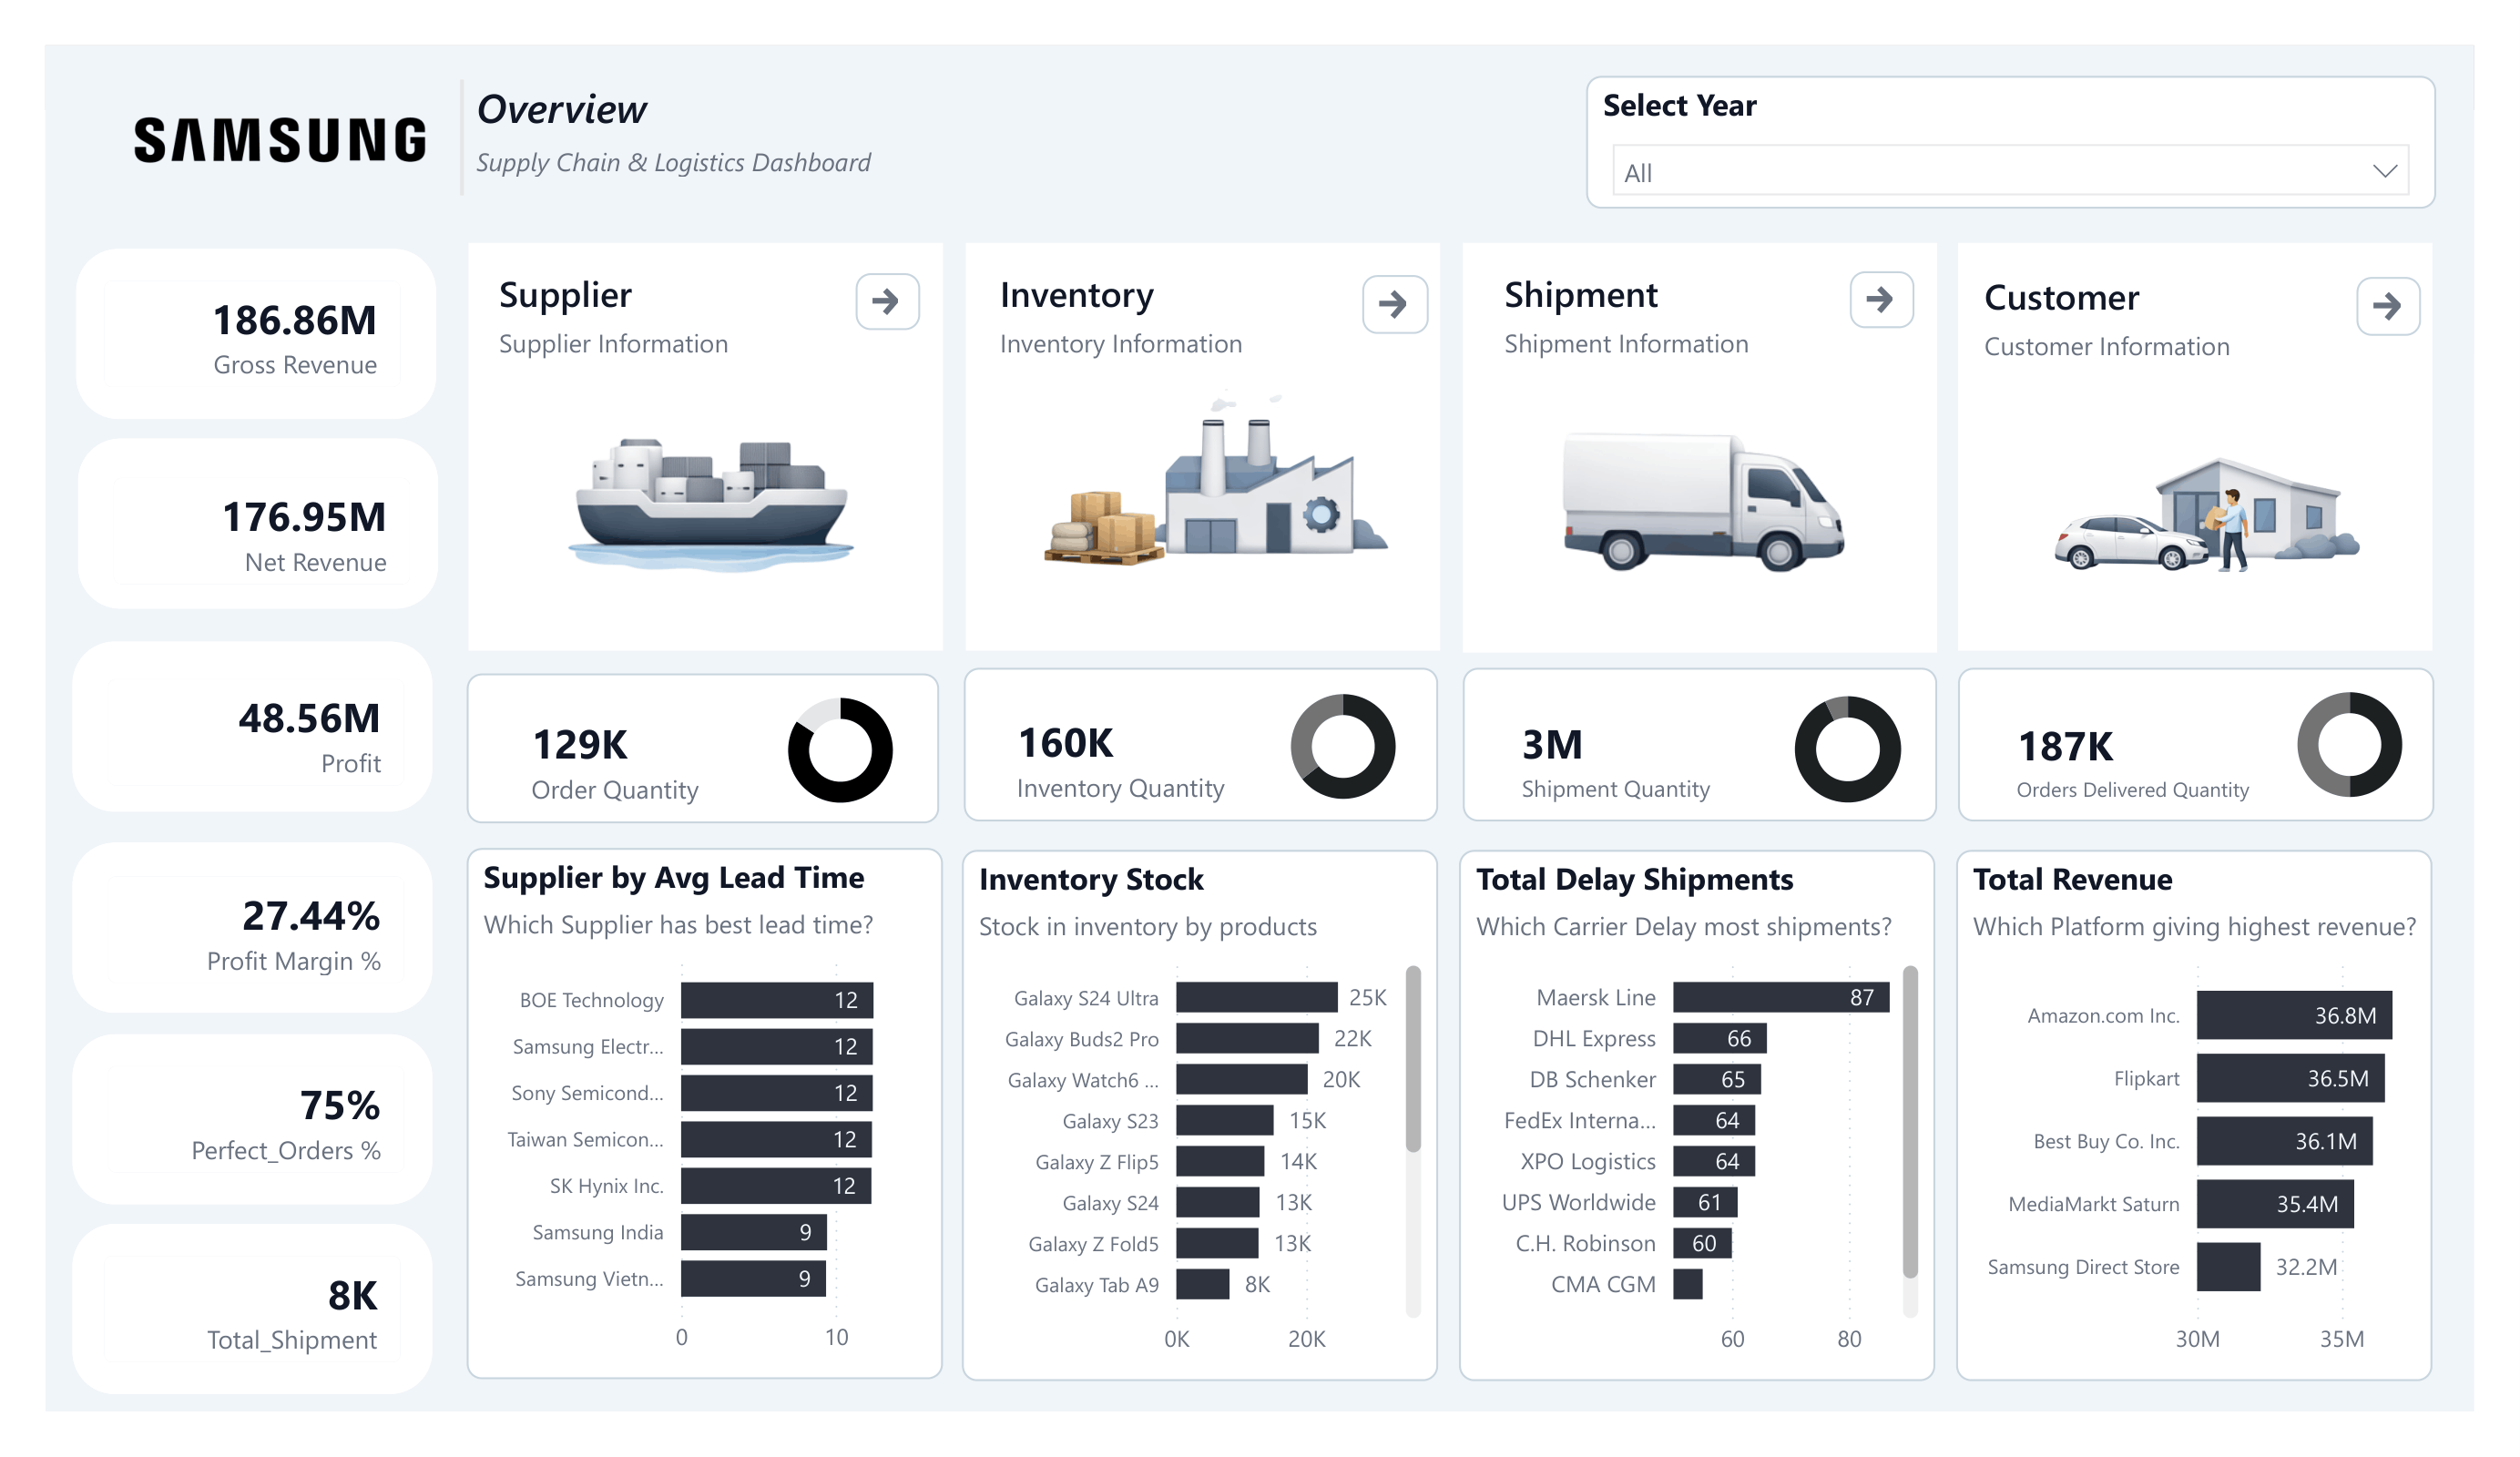

Layout of this report page (visuals, bound fields, positions):
{"tool":"powerbi","page":{"name":"overview","canvas":[1280,720],"ordinal":1},"visuals":[{"type":"shape","box":[14.3,621.4,190,90],"z":0},{"type":"shape","box":[14.3,521.4,190,90],"z":1000},{"type":"shape","box":[14.3,420,190,90],"z":2000},{"type":"shape","box":[14.3,314.3,190,90],"z":3000},{"type":"shape","box":[17.1,207.1,190,90],"z":4000},{"type":"shape","box":[15.7,107.1,190,90],"z":5000},{"type":"shape","box":[484.6,103.9,250.7,215.2],"z":6000},{"type":"shape","box":[747,103.8,249.7,216],"z":7000},{"type":"shape","box":[1008.5,103.9,250,215.2],"z":8000},{"type":"shape","box":[222.8,103.9,250,215.2],"z":9000},{"type":"image","box":[259.2,171.2,176.1,126],"z":10000},{"type":"image","box":[1051.6,143.1,183.4,204.2],"z":11000},{"type":"image","box":[786.3,160.2,171.2,149.2],"z":12000},{"type":"image","box":[506.3,129.6,209.1,189.5],"z":13000},{"type":"actionButton","box":[426.7,119.8,34.2,30.6],"z":14000},{"type":"shape","title":"Supplier","box":[239.2,117.8,168.8,52.6],"z":15000},{"type":"shape","title":"Inventory","box":[503.3,117.8,168.8,52.6],"z":16000},{"type":"shape","title":"Shipment","box":[768.8,117.8,168.8,52.6],"z":17000},{"type":"shape","title":"Customer ","box":[1022.4,119,168.8,52.6],"z":18000},{"type":"shape","title":"Overview","box":[227.4,18.3,221.3,61.1],"z":19000},{"type":"shape","box":[166.3,18.3,106.4,61.1],"z":20000},{"type":"image","box":[35.5,13.5,170,72.1],"z":21000},{"type":"actionButton","box":[694.5,121.1,34.2,30.6],"z":22000},{"type":"actionButton","box":[951.2,118.6,34.2,30.6],"z":23000},{"type":"actionButton","box":[1217.8,122.3,34.2,30.6],"z":24000},{"type":"cardVisual","fields":{"Data":["Sum(fact_sales.net_revenue)"]},"box":[18.6,211.4,190,90],"z":25000},{"type":"cardVisual","fields":{"Data":["MeasuresTable.Profit"]},"box":[15.7,317.1,190,90],"z":26000},{"type":"cardVisual","fields":{"Data":["MeasuresTable.Perfect_Orders %"]},"box":[15.7,521.4,190,90],"z":27000},{"type":"cardVisual","fields":{"Data":["MeasuresTable.Profit Margin %"]},"box":[15.7,421.4,190,90],"z":28000},{"type":"cardVisual","fields":{"Data":["MeasuresTable.Total_Shipment"]},"box":[14.3,621.4,190,90],"z":29000},{"type":"shape","box":[222,330.8,249.5,79.5],"z":30000},{"type":"shape","box":[483.7,328.3,250.7,80.7],"z":31000},{"type":"shape","box":[746.6,328.3,250.7,80.7],"z":32000},{"type":"shape","box":[1008.3,328.3,250.7,80.7],"z":33000},{"type":"cardVisual","fields":{"Data":["MeasuresTable.Order_QTY"]},"box":[226.8,331.8,153.2,88.1],"z":34000},{"type":"cardVisual","fields":{"Data":["MeasuresTable.Inventory_Value"]},"box":[482.6,330.6,188.2,89.3],"z":35000},{"type":"cardVisual","fields":{"Data":["MeasuresTable.Total_Shipment_Quantity"]},"box":[749.2,330.6,171.3,89.3],"z":36000},{"type":"cardVisual","fields":{"Data":["MeasuresTable.Total_Delivered_Quantity"]},"box":[1009.8,331.8,193,88.1],"z":37000},{"type":"clusteredBarChart","title":"Inventory Stock","fields":{"Category":["dim_product.product_name"],"Y":["MeasuresTable.Inventory_Value"]},"box":[483.5,423.8,251,280],"z":38000},{"type":"barChart","title":"Supplier by Avg Lead Time","fields":{"Category":["dim_supplier.supplier_name"],"Y":["MeasuresTable.AVG_Lead_Time"]},"box":[221.9,423.5,250.7,280],"z":39000},{"type":"barChart","title":"Total  Delay Shipments","fields":{"Y":["MeasuresTable.Total_Delay"],"Category":["fact_shipment.carrier"]},"box":[745.4,423.6,250.7,280],"z":40000},{"type":"barChart","title":"Total Revenue","fields":{"Y":["MeasuresTable.Total_Revenue"],"Category":["dim_customer.customer_name"]},"box":[1006.9,423.7,250.7,280],"z":41000},{"type":"donutChart","fields":{"Y":["MeasuresTable.Inventory_Value","MeasuresTable.Safety_Stock"]},"box":[619.3,329.7,129.6,79.5],"z":42000},{"type":"donutChart","fields":{"Y":["MeasuresTable.Total_Shipment","MeasuresTable.Total_Delay"]},"box":[884.5,330.8,130,80],"z":43000},{"type":"donutChart","fields":{"Y":["MeasuresTable.Total_Delivered_Quantity","MeasuresTable.Total_QTY_Delay"]},"box":[1149.8,328.6,129.6,79.5],"z":44000},{"type":"donutChart","fields":{"Y":["MeasuresTable.Order_QTY","MeasuresTable.Defect_Rate"]},"box":[353.7,332.4,130,78.6],"z":45000},{"type":"cardVisual","fields":{"Data":["Sum(fact_sales.gross_revenue)"]},"box":[14.3,107.1,190,90],"z":46000},{"type":"slicer","title":"Select Year","fields":{"Values":["dim_date.date.Variation.Date Hierarchy.Year","dim_date.date.Variation.Date Hierarchy.Quarter","dim_date.date.Variation.Date Hierarchy.Month","dim_date.date.Variation.Date Hierarchy.Day"]},"box":[811.9,15.7,447.6,70],"z":47000}]}

Visuals, with their boxes on the page's 1280x720 design canvas (x1, y1, x2, y2). These are canvas units, not pixel positions in the 2520x1457 screenshot, which may show the page scaled, cropped or inside an application window:
shape: <bbox>14, 621, 204, 711</bbox>
shape: <bbox>14, 521, 204, 611</bbox>
shape: <bbox>14, 420, 204, 510</bbox>
shape: <bbox>14, 314, 204, 404</bbox>
shape: <bbox>17, 207, 207, 297</bbox>
shape: <bbox>16, 107, 206, 197</bbox>
shape: <bbox>485, 104, 735, 319</bbox>
shape: <bbox>747, 104, 997, 320</bbox>
shape: <bbox>1008, 104, 1258, 319</bbox>
shape: <bbox>223, 104, 473, 319</bbox>
image: <bbox>259, 171, 435, 297</bbox>
image: <bbox>1052, 143, 1235, 347</bbox>
image: <bbox>786, 160, 958, 309</bbox>
image: <bbox>506, 130, 715, 319</bbox>
actionButton: <bbox>427, 120, 461, 150</bbox>
"Supplier" shape: <bbox>239, 118, 408, 170</bbox>
"Inventory" shape: <bbox>503, 118, 672, 170</bbox>
"Shipment" shape: <bbox>769, 118, 938, 170</bbox>
"Customer " shape: <bbox>1022, 119, 1191, 172</bbox>
"Overview" shape: <bbox>227, 18, 449, 79</bbox>
shape: <bbox>166, 18, 273, 79</bbox>
image: <bbox>36, 14, 206, 86</bbox>
actionButton: <bbox>694, 121, 729, 152</bbox>
actionButton: <bbox>951, 119, 985, 149</bbox>
actionButton: <bbox>1218, 122, 1252, 153</bbox>
cardVisual - Sum(fact_sales.net_revenue): <bbox>19, 211, 209, 301</bbox>
cardVisual - MeasuresTable.Profit: <bbox>16, 317, 206, 407</bbox>
cardVisual - MeasuresTable.Perfect_Orders %: <bbox>16, 521, 206, 611</bbox>
cardVisual - MeasuresTable.Profit Margin %: <bbox>16, 421, 206, 511</bbox>
cardVisual - MeasuresTable.Total_Shipment: <bbox>14, 621, 204, 711</bbox>
shape: <bbox>222, 331, 472, 410</bbox>
shape: <bbox>484, 328, 734, 409</bbox>
shape: <bbox>747, 328, 997, 409</bbox>
shape: <bbox>1008, 328, 1259, 409</bbox>
cardVisual - MeasuresTable.Order_QTY: <bbox>227, 332, 380, 420</bbox>
cardVisual - MeasuresTable.Inventory_Value: <bbox>483, 331, 671, 420</bbox>
cardVisual - MeasuresTable.Total_Shipment_Quantity: <bbox>749, 331, 920, 420</bbox>
cardVisual - MeasuresTable.Total_Delivered_Quantity: <bbox>1010, 332, 1203, 420</bbox>
"Inventory Stock" clusteredBarChart: <bbox>484, 424, 734, 704</bbox>
"Supplier by Avg Lead Time" barChart: <bbox>222, 424, 473, 704</bbox>
"Total  Delay Shipments" barChart: <bbox>745, 424, 996, 704</bbox>
"Total Revenue" barChart: <bbox>1007, 424, 1258, 704</bbox>
donutChart - MeasuresTable.Inventory_Value x MeasuresTable.Safety_Stock: <bbox>619, 330, 749, 409</bbox>
donutChart - MeasuresTable.Total_Shipment x MeasuresTable.Total_Delay: <bbox>884, 331, 1014, 411</bbox>
donutChart - MeasuresTable.Total_Delivered_Quantity x MeasuresTable.Total_QTY_Delay: <bbox>1150, 329, 1279, 408</bbox>
donutChart - MeasuresTable.Order_QTY x MeasuresTable.Defect_Rate: <bbox>354, 332, 484, 411</bbox>
cardVisual - Sum(fact_sales.gross_revenue): <bbox>14, 107, 204, 197</bbox>
"Select Year" slicer: <bbox>812, 16, 1260, 86</bbox>
